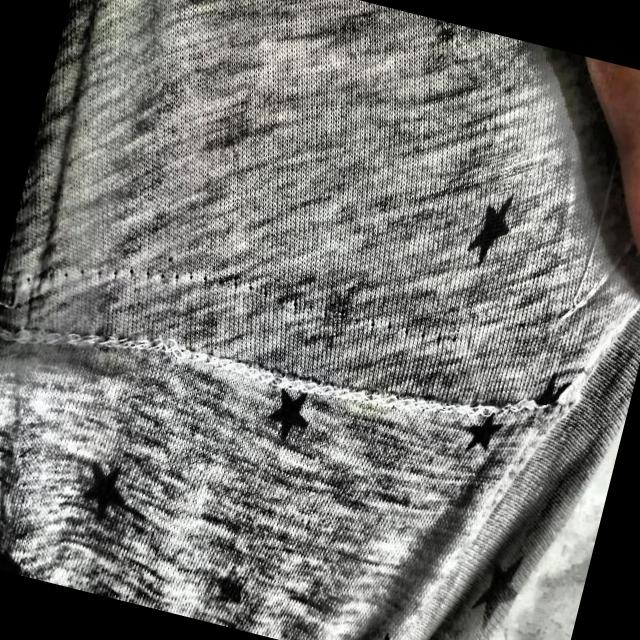gray stitch: (25, 217, 464, 381)
